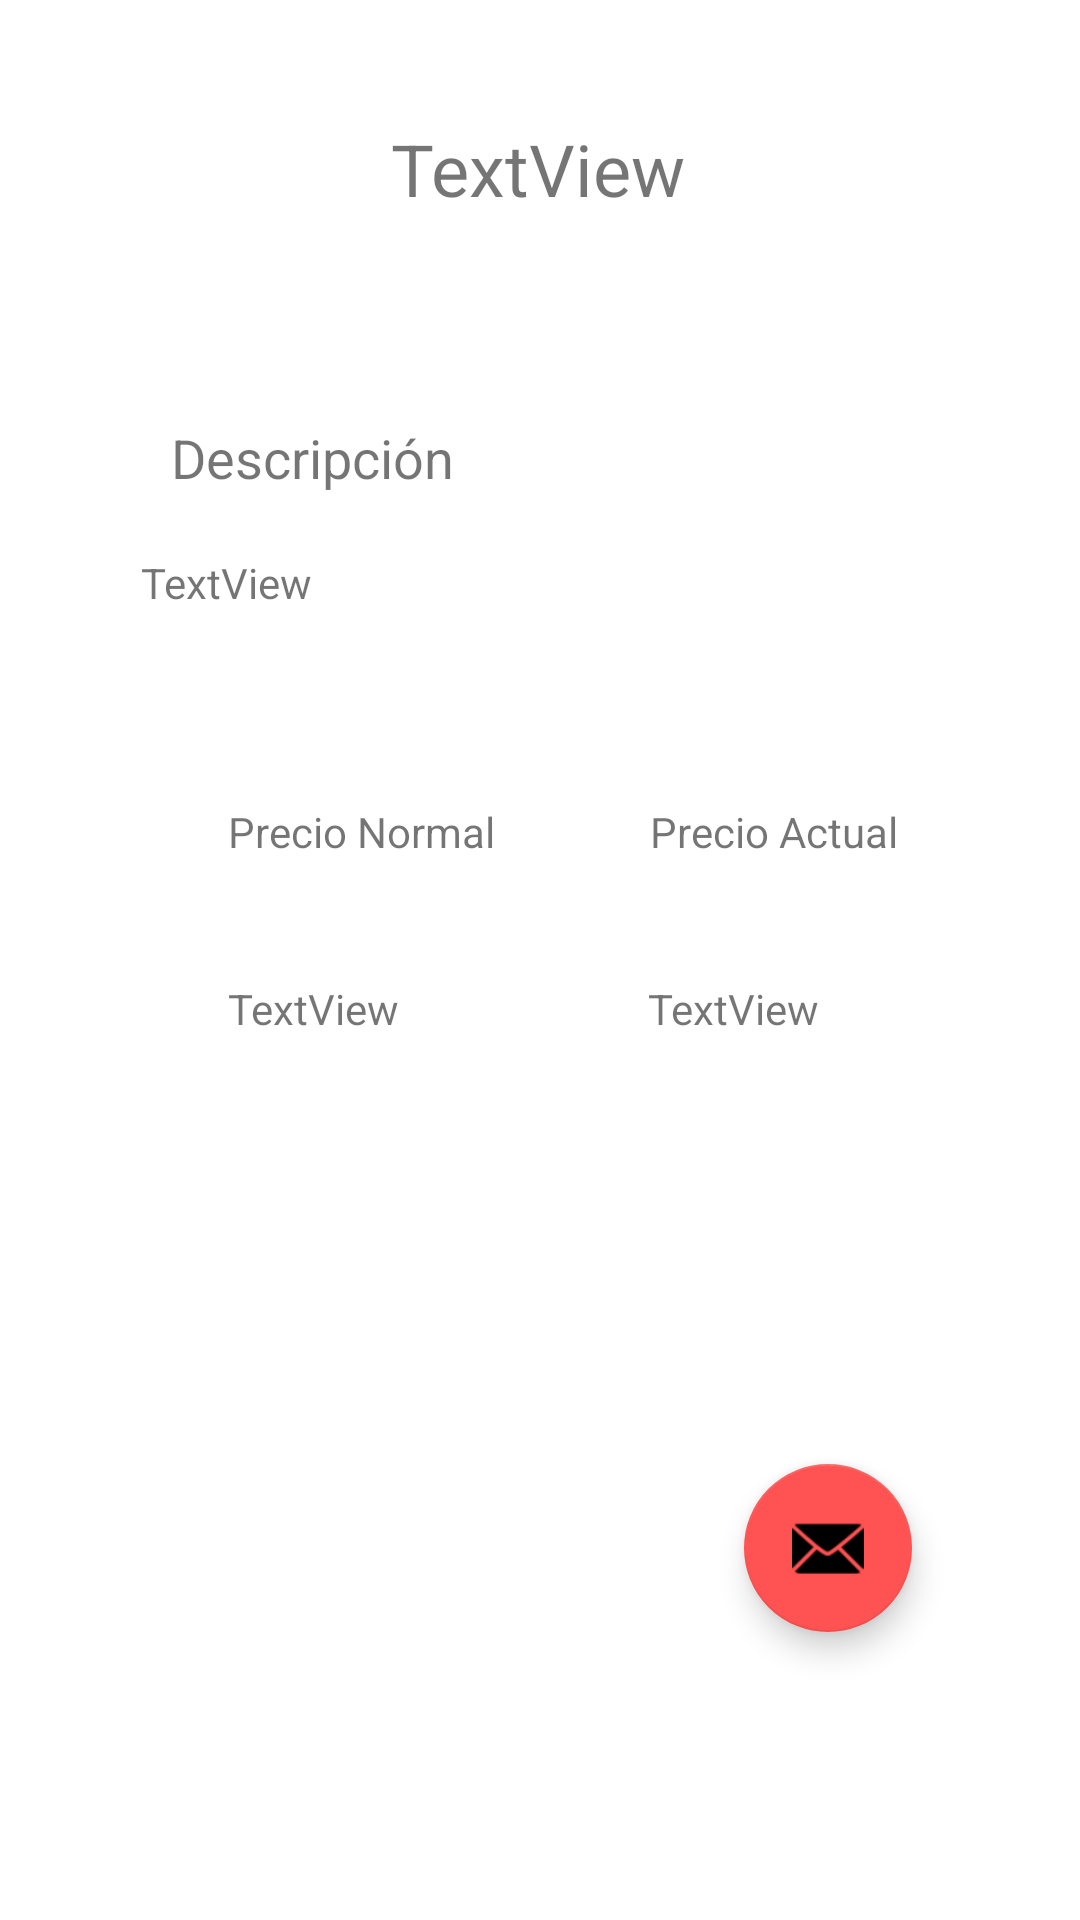

Locate icon controls on the screen. Image size 1080w x 1920h, boxes as (x1, y1, x2, y2).
email: (744, 1464, 912, 1632)
